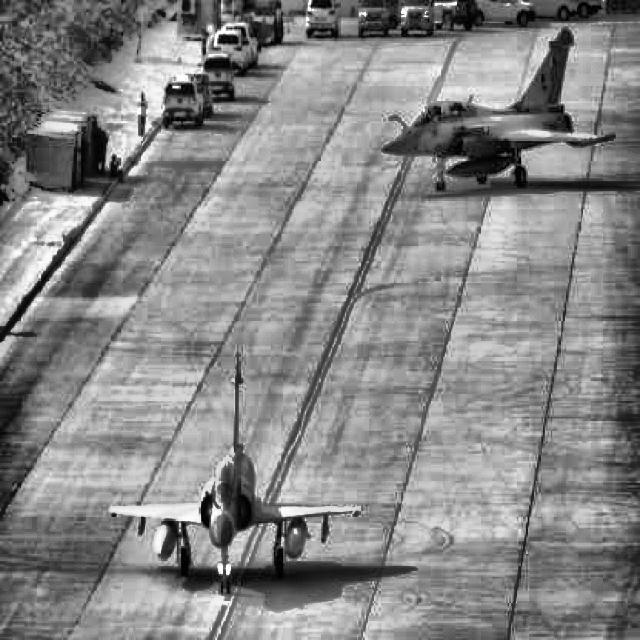Mirage2000: (109, 351, 362, 594)
Rafale: (381, 28, 616, 192)
